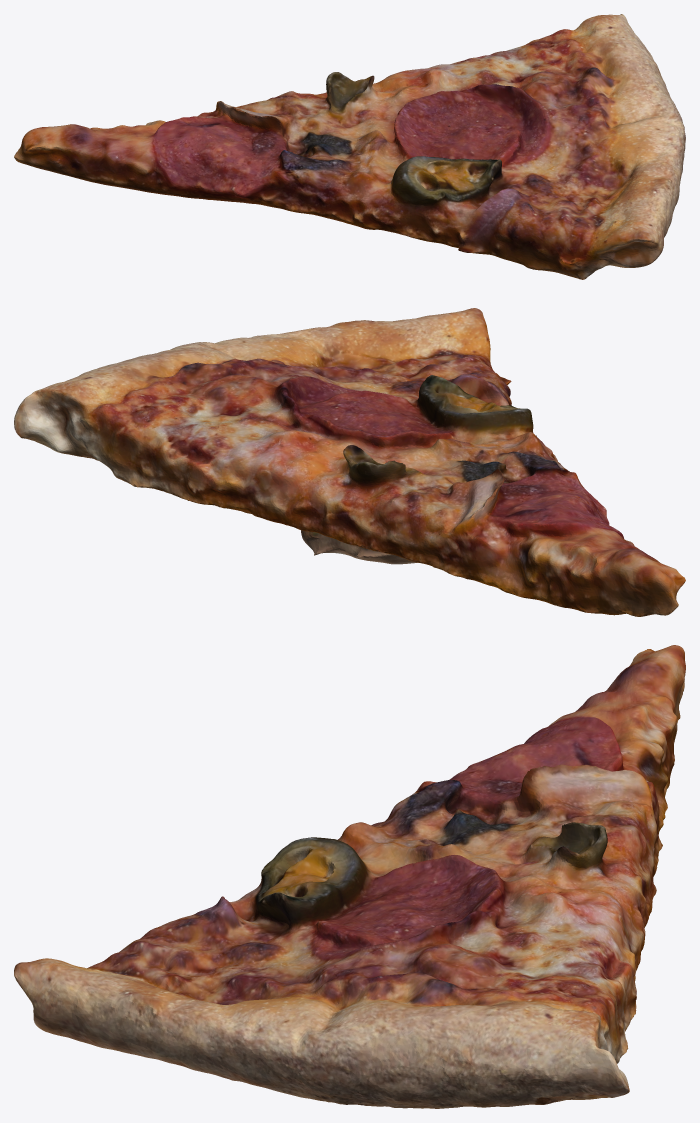
The picture shows the model from 3 angles, top to bottom: view 1: azimuth 30°, elevation 25°; view 2: azimuth 150°, elevation 25°; view 3: azimuth 270°, elevation 25°; orthographic projection. The views are drawn at different scales.
Size of the model in its own units: 0.887 by 0.1433 by 0.6041.
Materials: 1 (1 with a texture image).
